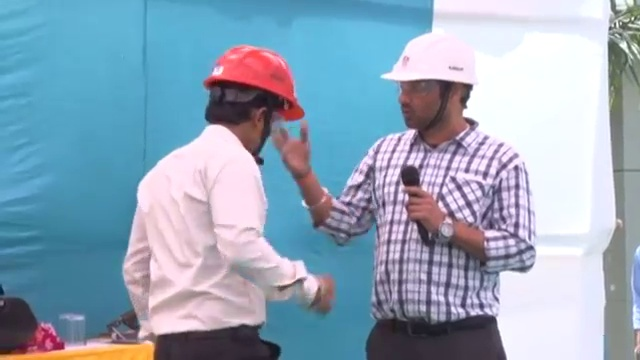helmet: (203, 43, 307, 119), (379, 34, 481, 87)
helmet_on: (203, 41, 309, 166), (378, 34, 481, 134)
person: (277, 32, 544, 360), (119, 43, 334, 360)
